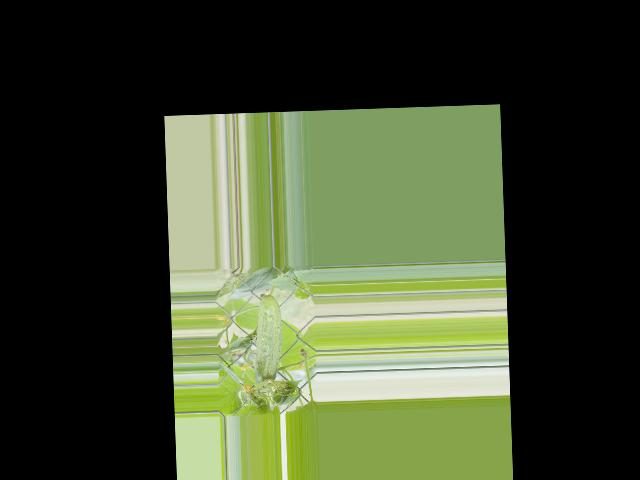cucumber: (252, 288, 283, 387)
